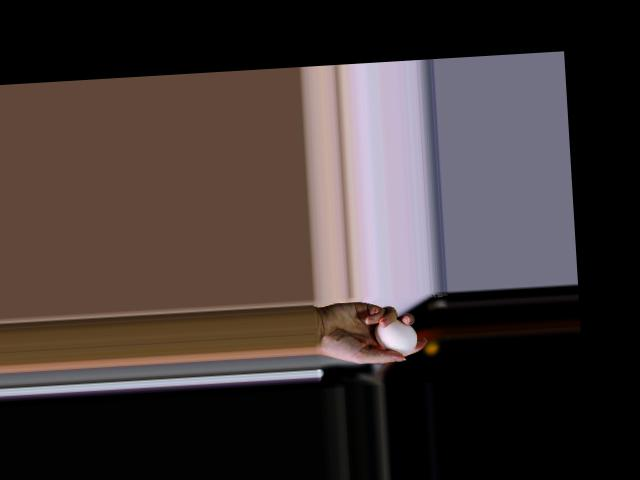egg: (374, 318, 419, 355)
